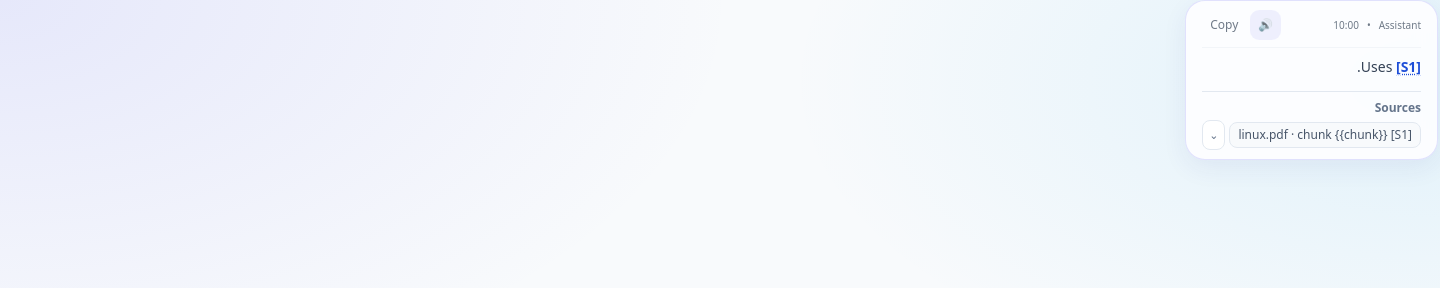
Test: ChatMessage source preview › expands and collapses a source snippet on demand
The image size is (1440, 288).
Expected: the text "A useful Linux command line excerpt." is not shown
What coordinates should you click on to do the following:
click the button named "Preview source"
I would click on:
 (1214, 135)
Its box is x1=1202 y1=120 x2=1225 y2=150.
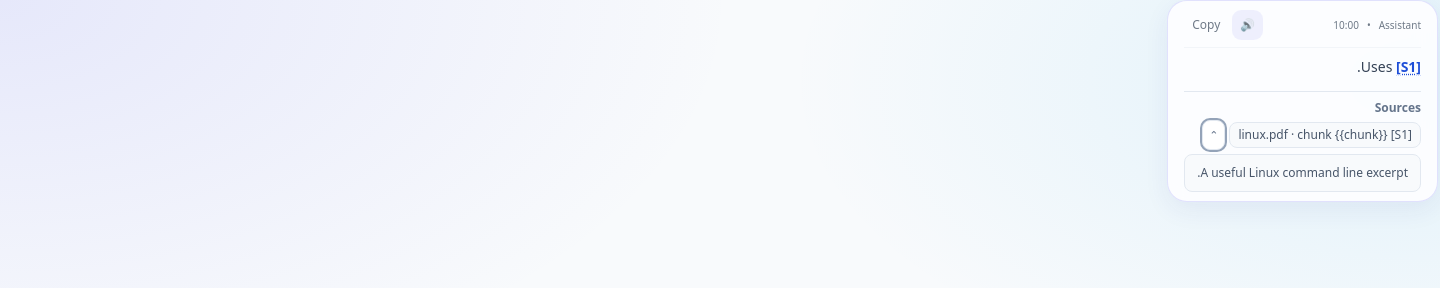
Result: the text "A useful Linux command line excerpt." is shown at x1=1184 y1=154 x2=1421 y2=192
What coordinates should you click on to do the following:
click the button named "Hide source preview"
I would click on:
 (1214, 135)
Its box is x1=1202 y1=120 x2=1225 y2=150.
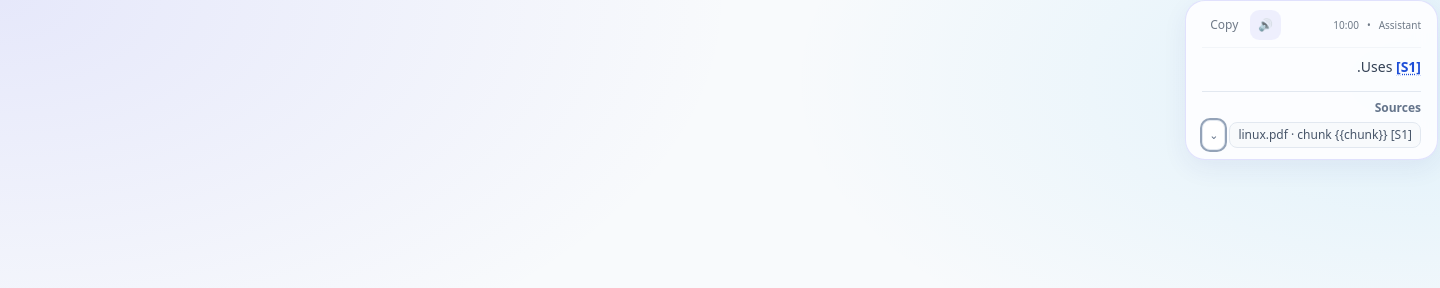
Result: the text "A useful Linux command line excerpt." is gone
